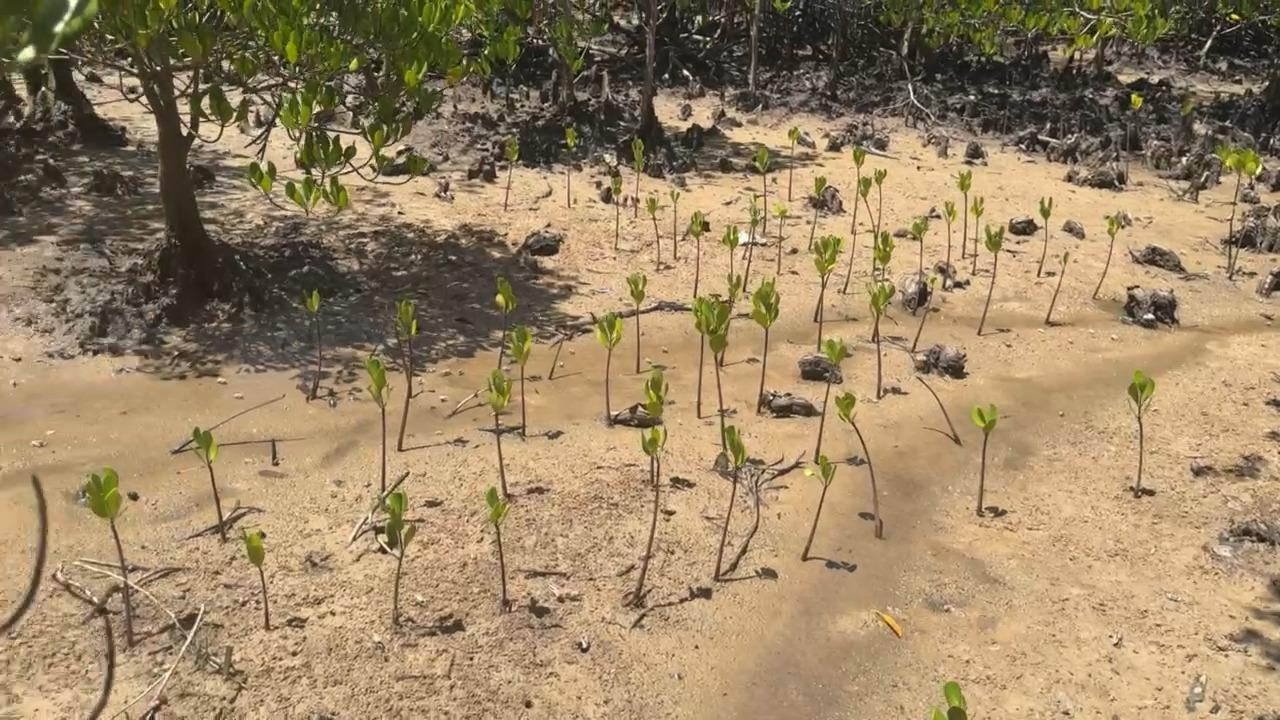Tree: (79, 467, 135, 645), (833, 391, 882, 539), (633, 426, 668, 596), (375, 486, 416, 619), (813, 336, 853, 464), (714, 425, 747, 577), (702, 296, 731, 454), (1218, 146, 1253, 269), (189, 426, 226, 540), (749, 277, 780, 412), (1231, 150, 1263, 277), (863, 279, 896, 396), (801, 455, 837, 561), (365, 359, 393, 491), (487, 370, 515, 495), (1128, 369, 1154, 488), (918, 375, 962, 445), (977, 224, 1005, 333), (971, 403, 997, 517), (870, 231, 896, 341), (645, 368, 670, 482), (486, 484, 510, 602), (241, 530, 270, 627), (399, 299, 417, 452), (812, 233, 842, 322), (814, 236, 837, 352), (598, 310, 622, 421), (859, 168, 885, 266), (907, 215, 930, 316), (625, 272, 648, 371), (510, 322, 530, 435), (718, 275, 742, 366), (1094, 213, 1119, 298), (391, 301, 413, 396), (304, 287, 323, 396), (691, 294, 708, 415), (497, 276, 518, 371), (913, 275, 938, 351), (951, 169, 971, 257), (741, 207, 760, 291), (1046, 252, 1069, 321), (752, 147, 770, 232), (931, 680, 968, 720), (851, 146, 866, 234), (809, 175, 826, 249), (942, 202, 956, 287), (646, 198, 662, 269), (771, 202, 787, 273), (504, 136, 519, 210), (970, 196, 984, 273), (1039, 196, 1052, 277), (691, 211, 703, 294), (742, 194, 757, 259), (633, 136, 645, 217), (610, 175, 622, 250), (787, 126, 799, 200), (723, 223, 738, 281), (844, 231, 857, 290), (670, 190, 678, 259), (566, 128, 572, 207)
